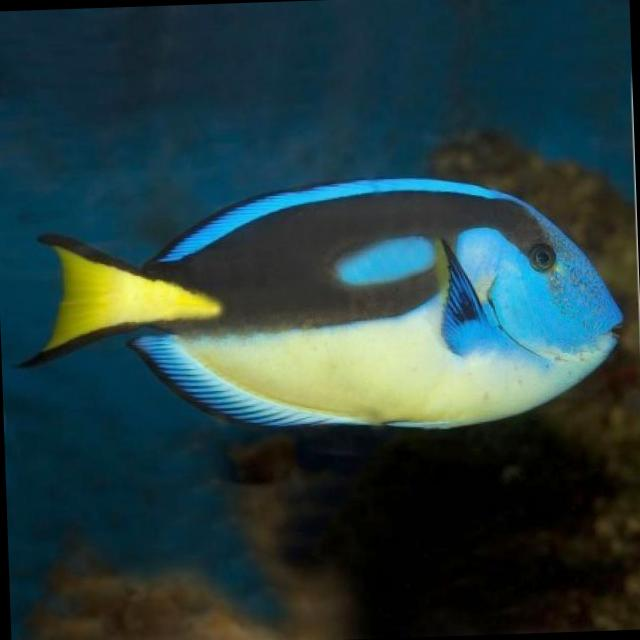TangFish: (22, 167, 624, 450)
